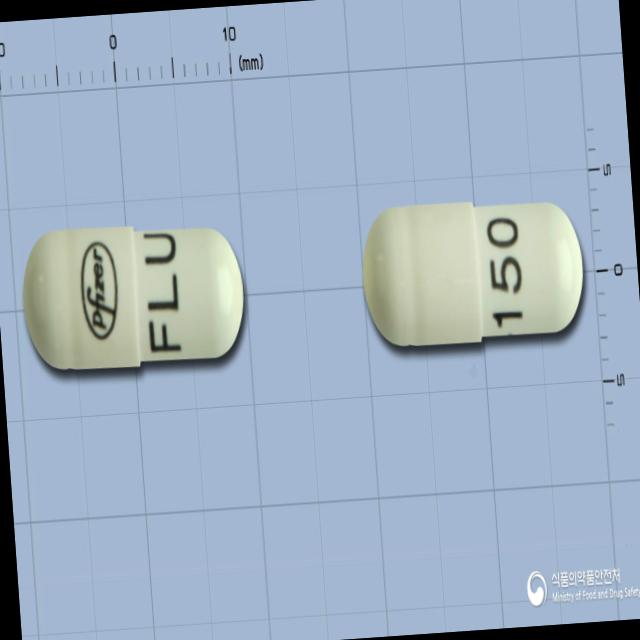Diflucan Cap - 150mg: (19, 217, 249, 376), (358, 192, 588, 351)
